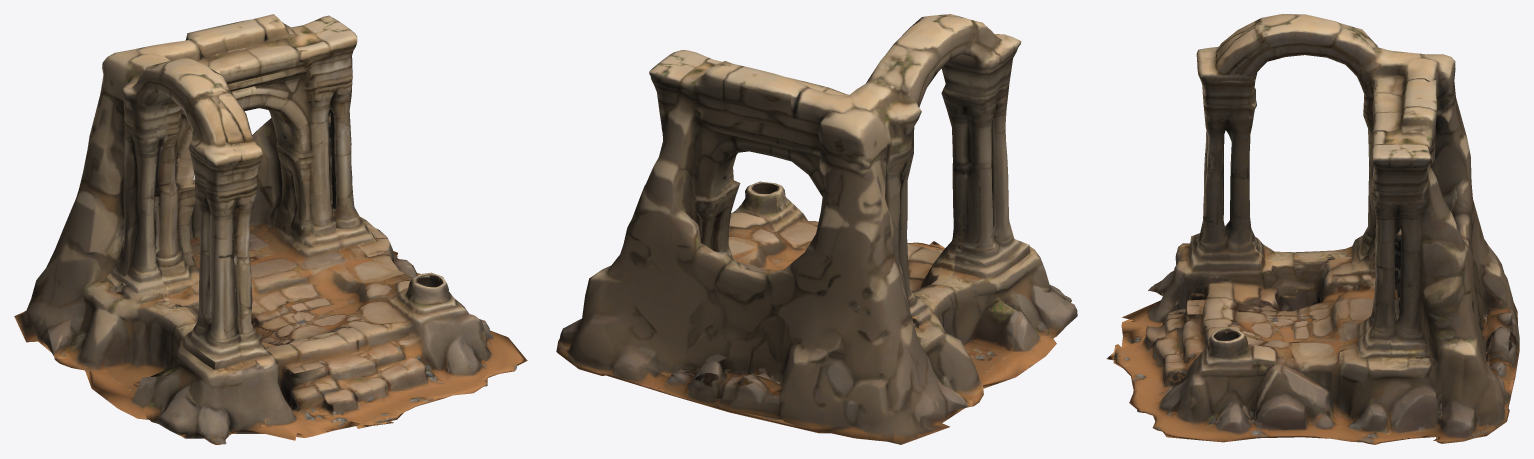
File: _1117210615_texture.fbx
The picture shows the model from 3 angles, left to right: view 1: azimuth 30°, elevation 25°; view 2: azimuth 150°, elevation 25°; view 3: azimuth 270°, elevation 25°; orthographic projection. The views are drawn at different scales.
Visible parts, largest first — view 1: Mesh0; view 2: Mesh0; view 3: Mesh0.
Part boxes in pixels (x1=…): Mesh0: x1=14, y1=14, x2=527, y2=444; Mesh0: x1=556, y1=14, x2=1077, y2=444; Mesh0: x1=1106, y1=14, x2=1519, y2=444.
Bounding box in the file's own units: 383 × 300 × 383.
1 material, 1 textured.
